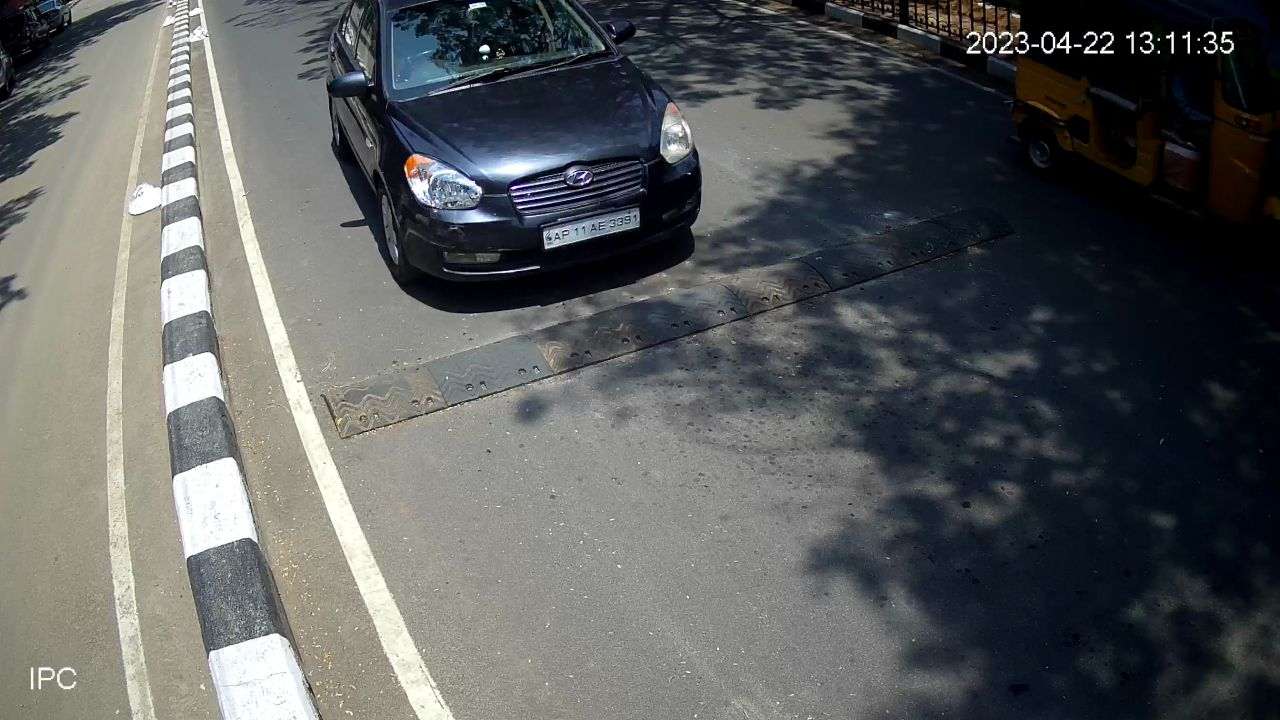license_plate: (538, 204, 645, 258)
